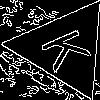K: (39, 23, 100, 73)
